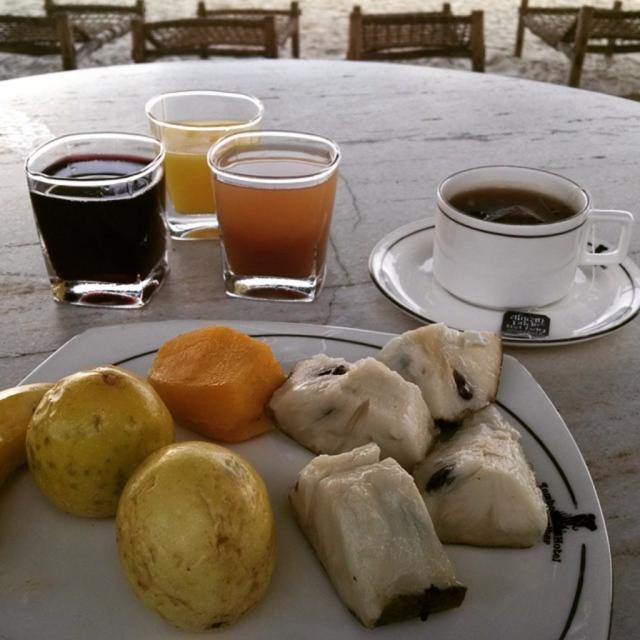Tea: (203, 123, 342, 305), (447, 186, 576, 226)
